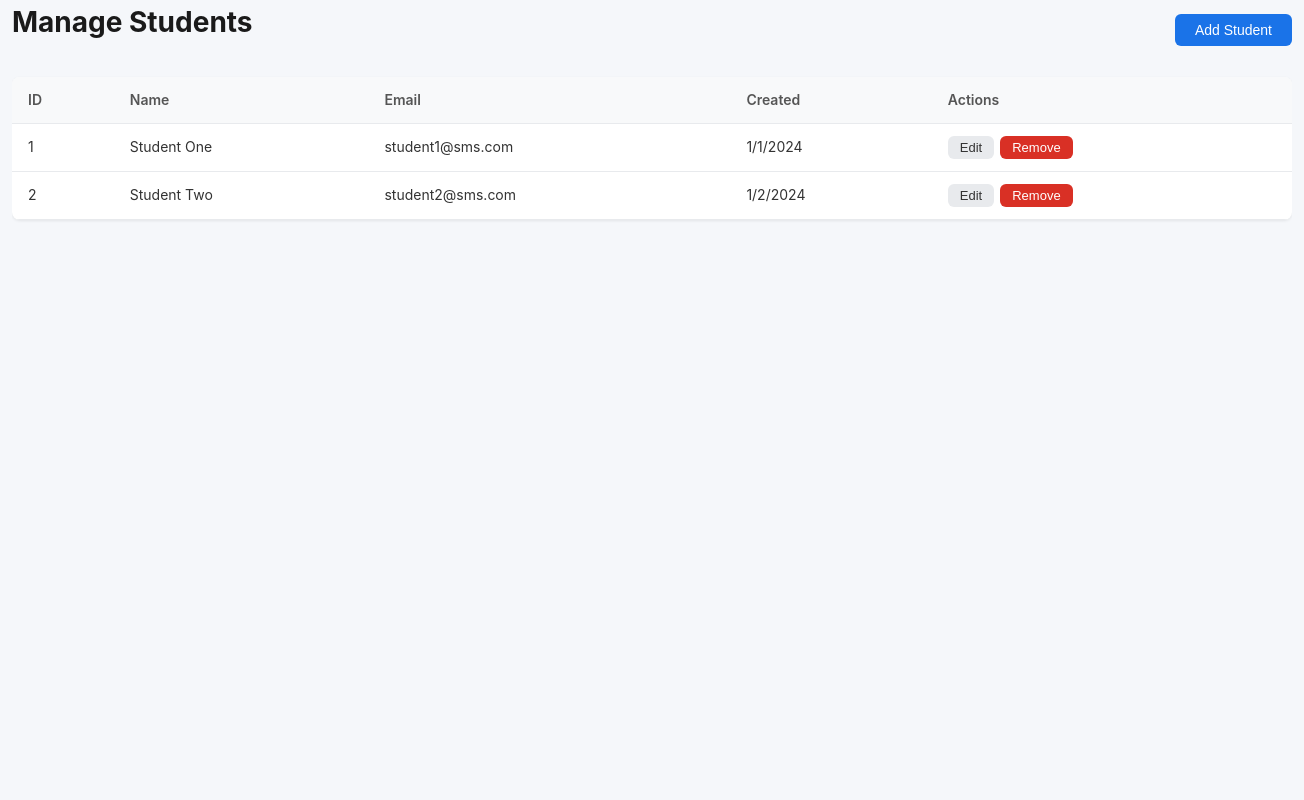
Scenario: ManageStudents › should toggle add form when clicking Add Student
Click the button "Add Student": coordinates (1233, 30) [1175,14,1292,46]
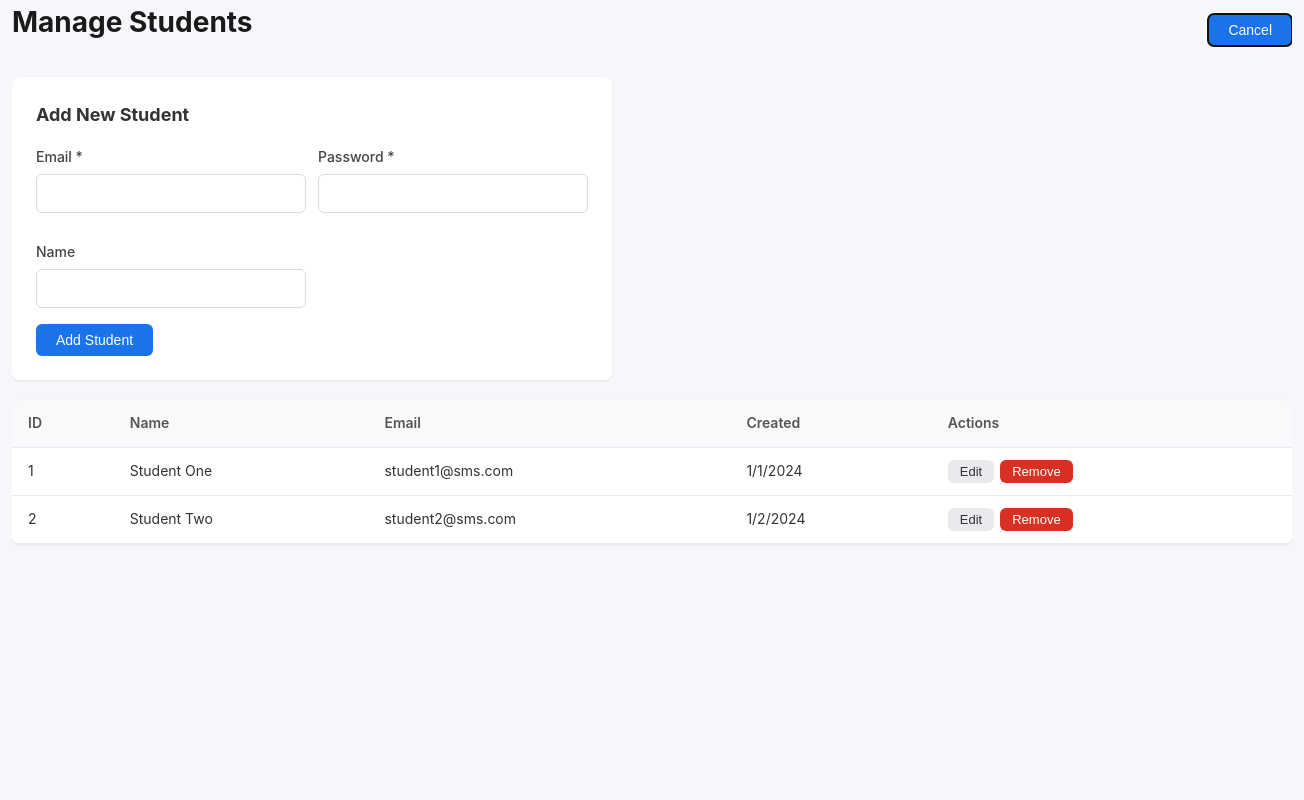
Now the heading "Add New Student" is shown, box [36,104,189,125]
Click the button "Cancel": coordinates (1250, 30) [1208,14,1292,46]
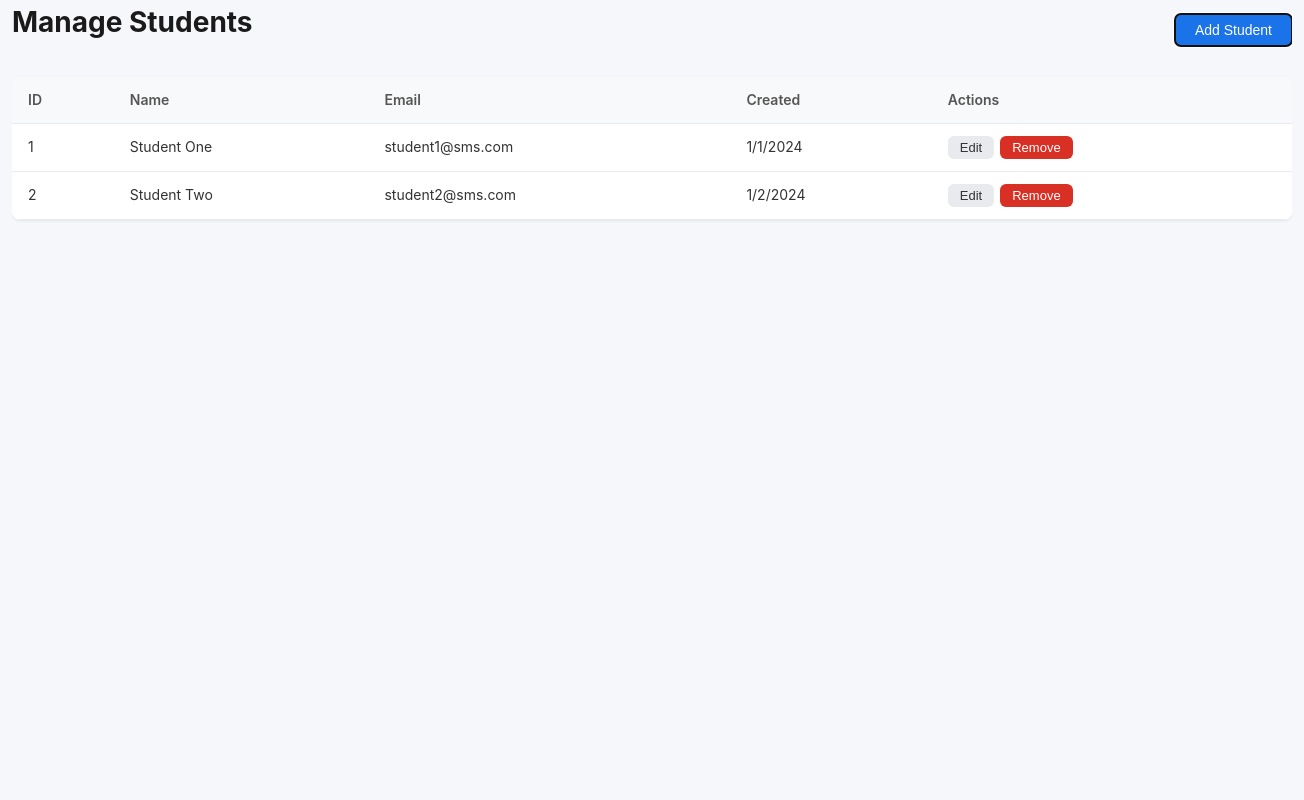
Now the heading "Add New Student" is gone
